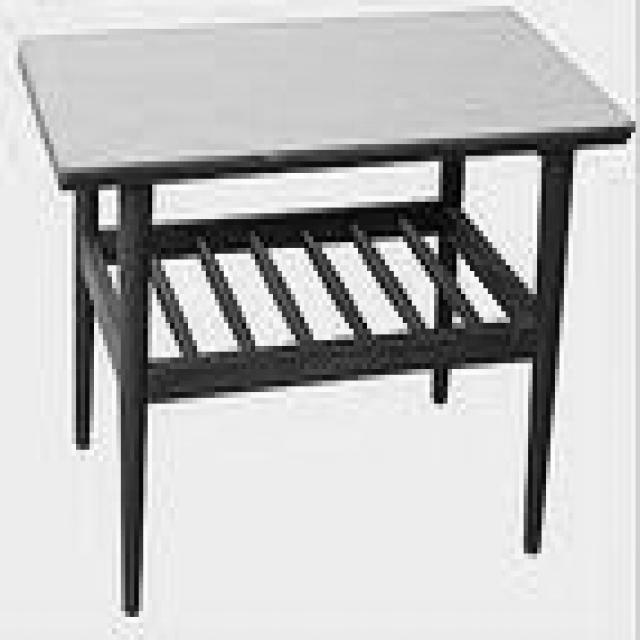table: (16, 5, 636, 615)
